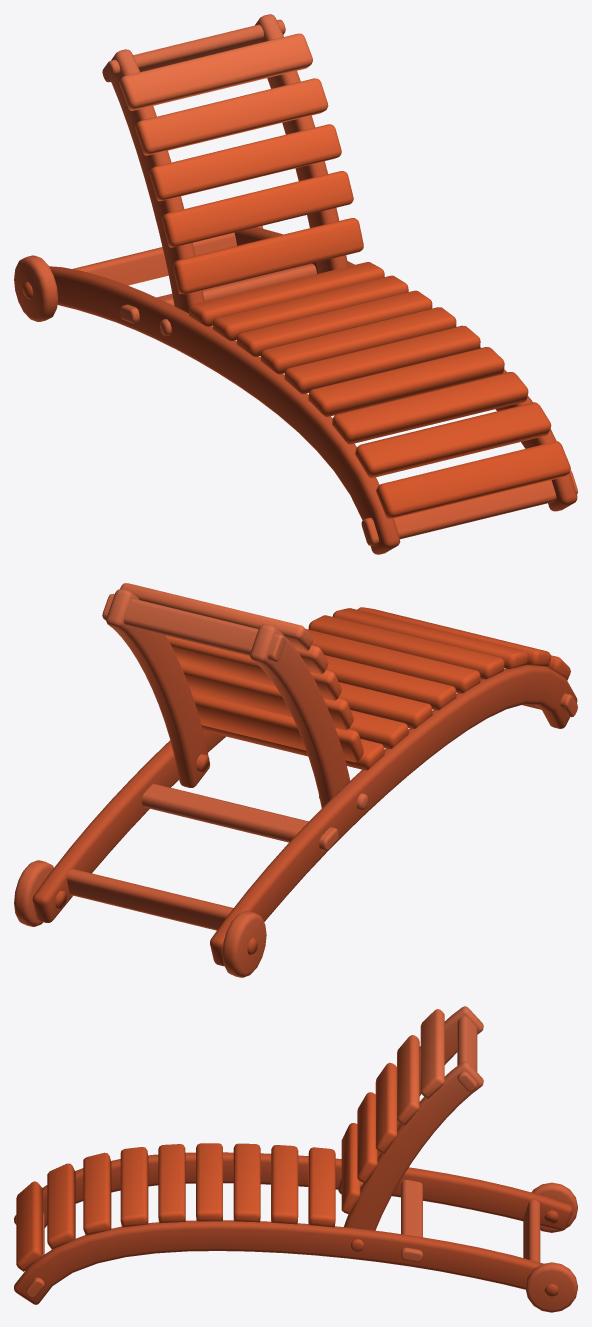
The model's file is Couch_15.glb.
The picture shows the model from 3 angles, top to bottom: view 1: azimuth 30°, elevation 25°; view 2: azimuth 150°, elevation 25°; view 3: azimuth 270°, elevation 25°; orthographic projection. The views are drawn at different scales.
Visible parts, largest first — view 1: Couch_15; view 2: Couch_15; view 3: Couch_15.
Part boxes in pixels (x1,y1,x2,y2): Couch_15: (14, 14, 577, 554); Couch_15: (14, 583, 577, 977); Couch_15: (14, 1006, 577, 1312).
Bounding box in the file's own units: 0.8529 × 1.07 × 2.32.
Materials: 1 (1 with a texture image).
